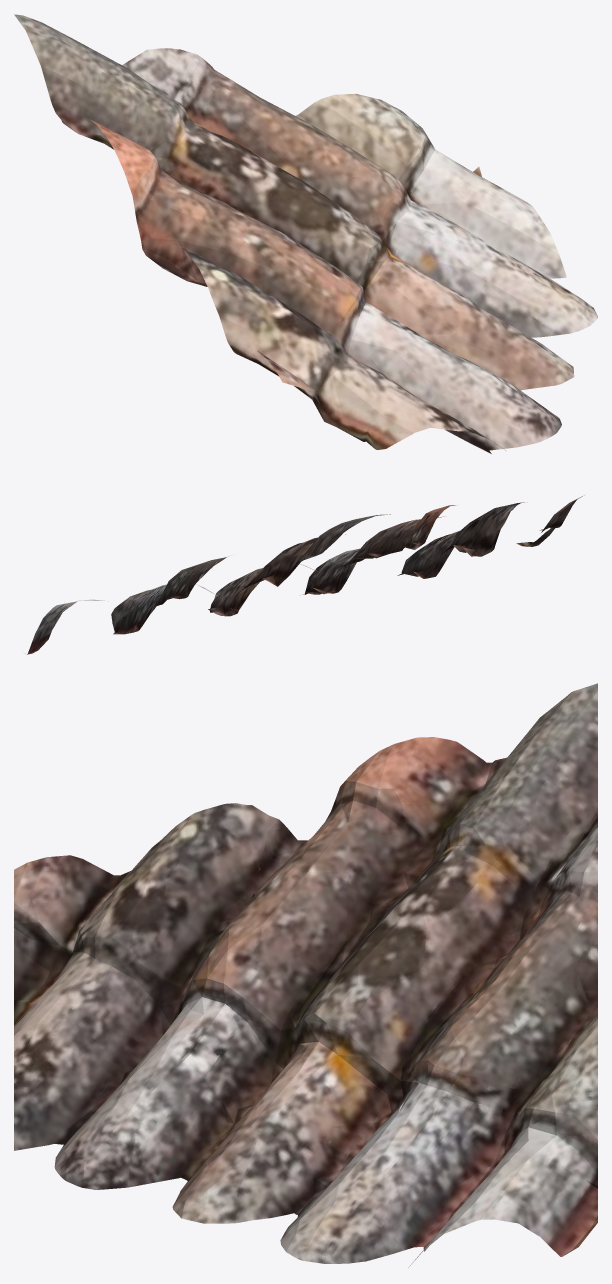
The picture shows the model from 3 angles, top to bottom: view 1: azimuth 30°, elevation 25°; view 2: azimuth 150°, elevation 25°; view 3: azimuth 270°, elevation 25°; orthographic projection. The views are drawn at different scales.
Size of the model in its own units: 0.8374 by 0.5373 by 0.8373.
Materials: 3 (3 with a texture image).
